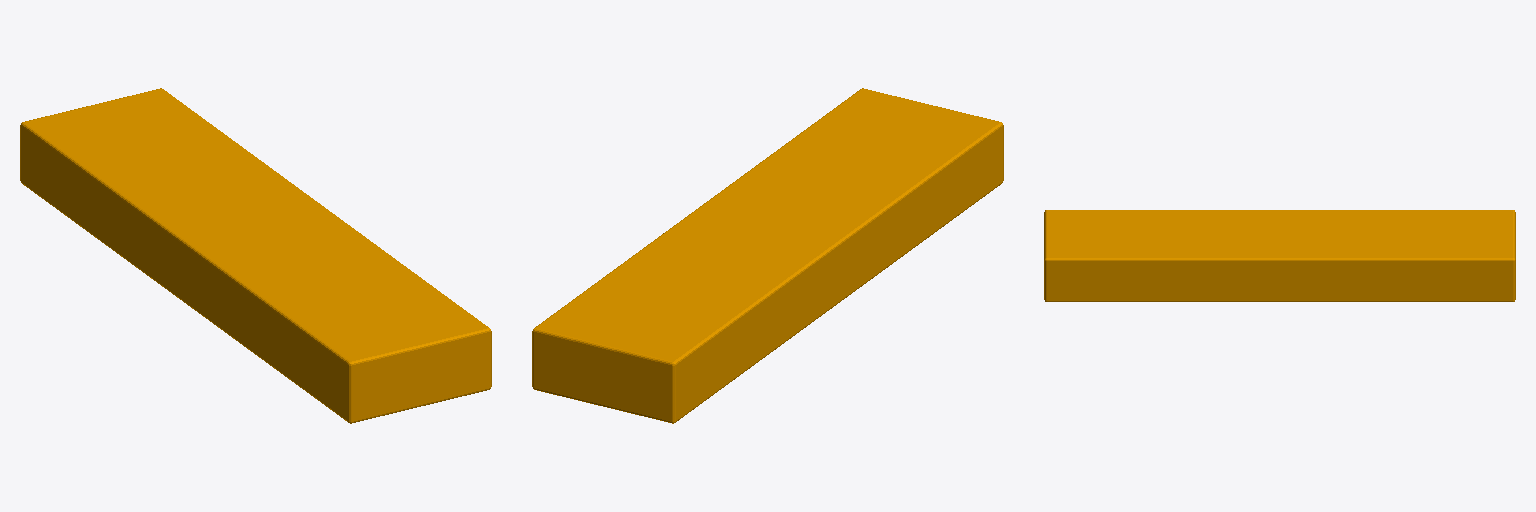
robot.urdf — plank_target_point:
<?xml version="1.0" ?>
<robot name="plank_target_point">
  <link name="base_link">
    <inertial>
      <origin xyz="0 0 0.0175" rpy="0 0 0"/>
      <mass value="0.50575"/>
      <inertia ixx="0.00492368698" ixy="0" ixz="0" iyy="0.000356132292" iyz="0" izz="0.00517656198"/>
    </inertial>
    <visual name="visual">
      <origin xyz="0 0 0" rpy="0 0 0"/>
      <geometry>
        <mesh filename="meshes/visual.obj" scale="1 1 1"/>
      </geometry>
    </visual>
    <collision name="plank">
      <origin xyz="0 0 0" rpy="0 0 0"/>
      <geometry>
        <mesh filename="meshes/collision/plank.obj" scale="1 1 1"/>
      </geometry>
    </collision>
  </link>
</robot>

--- Render facts (derived) ---
3 views of the same robot in one strip: view 1: azimuth 30°, elevation 25°; view 2: azimuth 150°, elevation 25°; view 3: azimuth 270°, elevation 25° (orthographic).
Robot: plank_target_point — 1 links, 0 joints (none); root link base_link; default pose: every joint at zero.
Links seen in each view (by area): view 1: base_link; view 2: base_link; view 3: base_link.
Link boxes in pixels (x1,y1,x2,y2): base_link: (20, 88, 491, 423); base_link: (532, 88, 1003, 423); base_link: (1044, 210, 1515, 301).
Bounding box of the posed robot: 0.085 × 0.34 × 0.035 m (x, y, z).
Meshes: 1 distinct files referenced, 1 mesh visuals loaded (1 OBJ).
